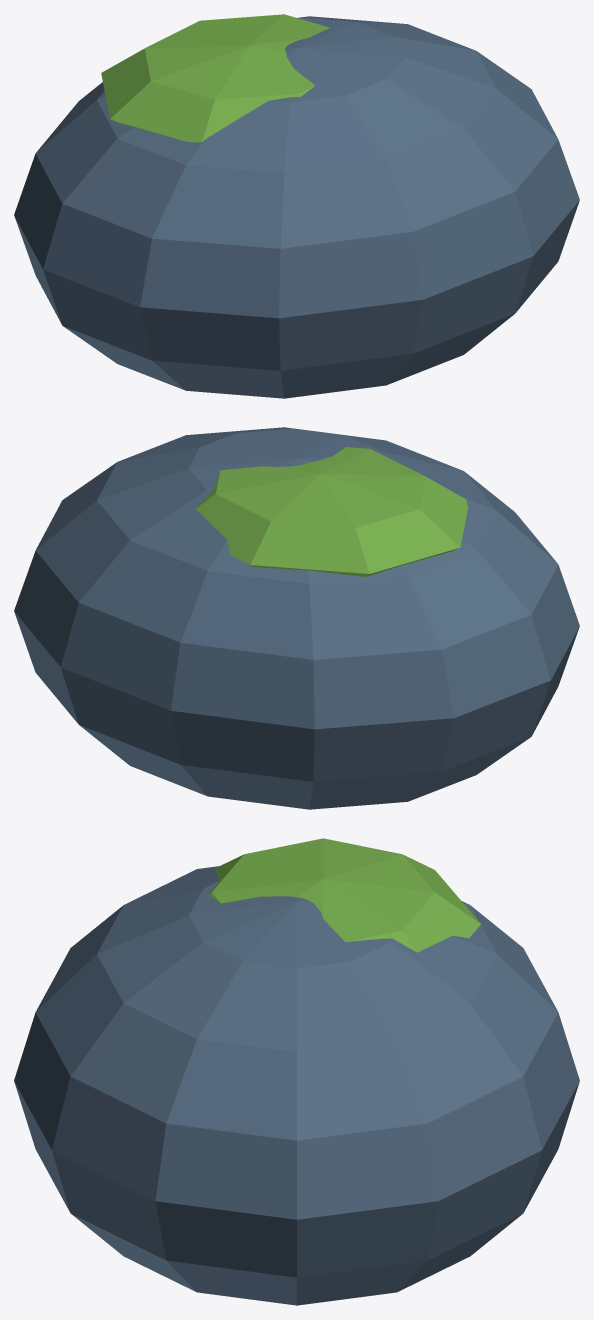
File: rock.glb
3 views of the same model, one above another, from view 1: azimuth 30°, elevation 25°; view 2: azimuth 150°, elevation 25°; view 3: azimuth 270°, elevation 25° (orthographic). The views are drawn at different scales.
Parts seen in each view (by area): view 1: Mossy stone_Surface; view 2: Mossy stone_Surface; view 3: Mossy stone_Surface.
Boxes of the visible parts, left/top/right/bottom form: Mossy stone_Surface: left=14, top=14, right=579, bottom=398; Mossy stone_Surface: left=14, top=427, right=579, bottom=809; Mossy stone_Surface: left=14, top=838, right=579, bottom=1305.
Bounding box in the file's own units: 1 × 0.545 × 0.86.
1 material, 1 textured.
